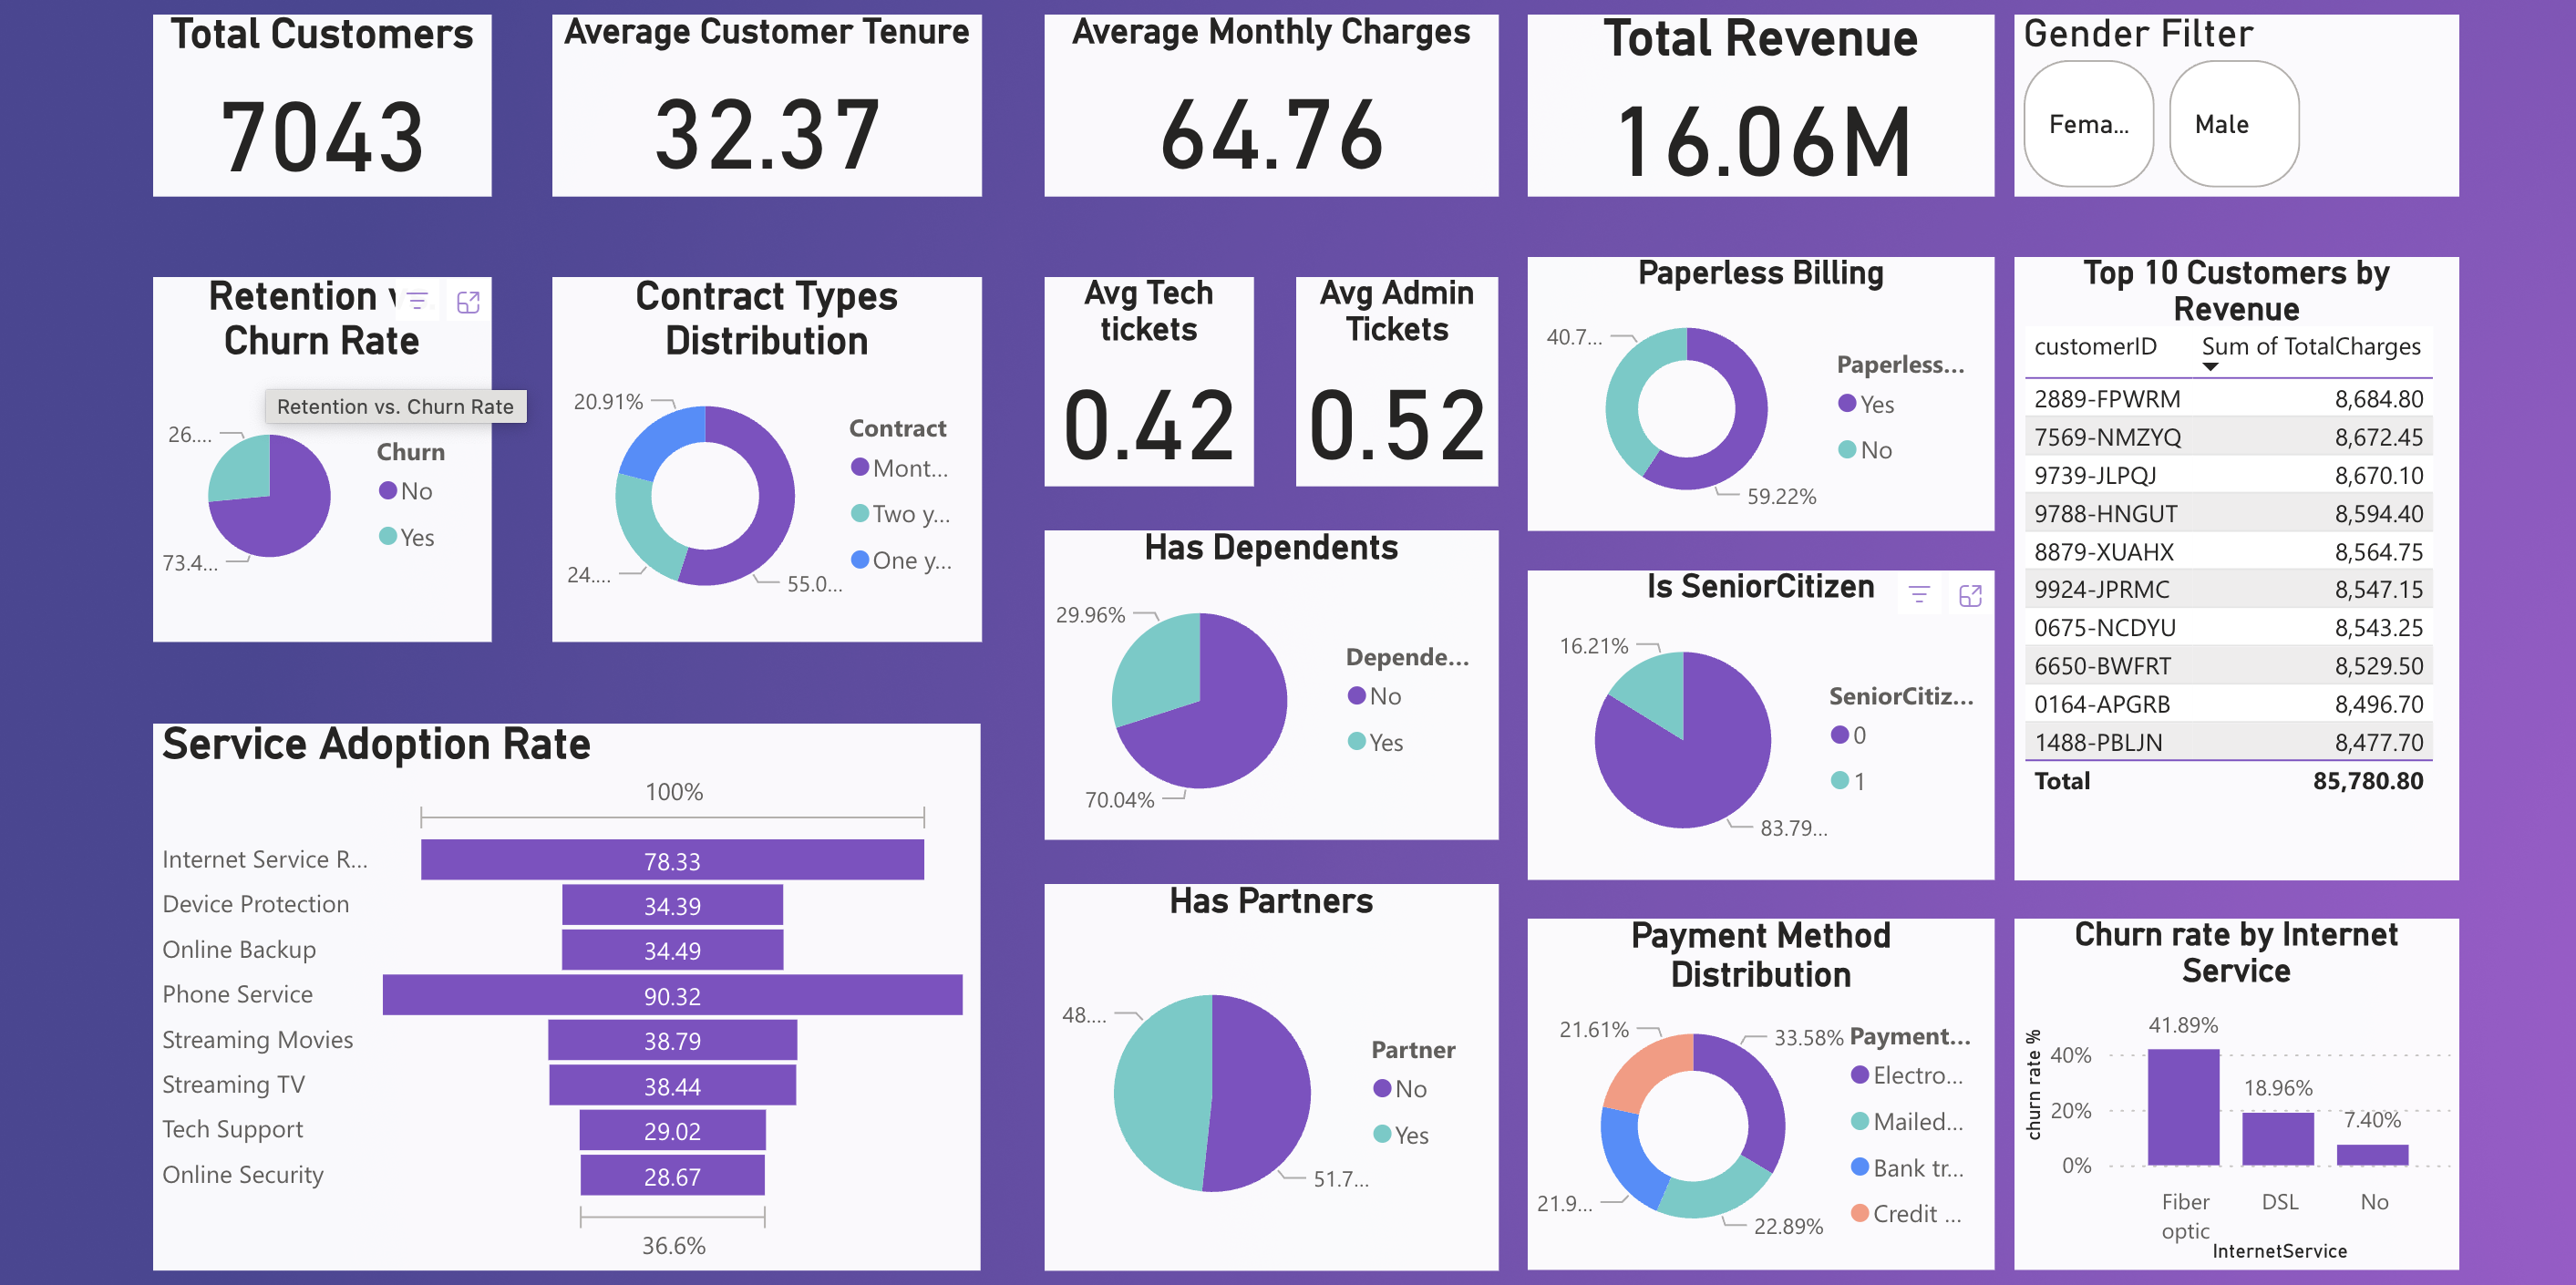

Layout of this report page (visuals, bound fields, positions):
{"tool":"powerbi","page":{"name":"Page 1","canvas":[1280,720],"ordinal":0},"visuals":[{"type":"card","title":"Total Customers","fields":{"Values":["Count(01 Churn-Dataset.customerID)"]},"box":[13.4,14.7,185.8,100.2],"z":0},{"type":"pieChart","title":"Retention vs. Churn Rate","fields":{"Y":["CountNonNull(01 Churn-Dataset.Churn)"],"Category":["01 Churn-Dataset.Churn"]},"box":[13.4,158.9,185.8,200.5],"z":1000},{"type":"advancedSlicerVisual","title":"Gender Filter","fields":{"Values":["01 Churn-Dataset.gender"]},"box":[1001.2,14.7,265.3,85.6],"z":2000},{"type":"funnel","title":"Service Adoption Rate ","fields":{"Y":["01 Churn-Dataset.internet_svs_users","01 Churn-Dataset.DeviceProtection_svs_users","01 Churn-Dataset.OnlineBackup_svs_users","01 Churn-Dataset.phone_svs_users","01 Churn-Dataset.StreamingMovies_svs_users","01 Churn-Dataset.StreamingTV_svs_users","01 Churn-Dataset.TechSupport_svs_users","01 Churn-Dataset.OnlineSecurity_svs_users"]},"box":[13.4,404.6,454.7,300.7],"z":3000},{"type":"card","title":"Average Customer Tenure","fields":{"Values":["Avg(01 Churn-Dataset.tenure)"]},"box":[231.9,15.1,236,100.2],"z":4000},{"type":"donutChart","title":"Contract Types Distribution","fields":{"Category":["01 Churn-Dataset.Contract"],"Y":["CountNonNull(01 Churn-Dataset.Contract)"]},"box":[232.3,158.9,235.9,200.5],"z":5000},{"type":"card","title":"Average Monthly Charges","fields":{"Values":["Avg(01 Churn-Dataset.MonthlyCharges)"]},"box":[502.4,14.7,249.4,100.2],"z":6000},{"type":"card","title":"Total Revenue","fields":{"Values":["Sum(01 Churn-Dataset.TotalCharges)"]},"box":[767.7,14.7,196.8,100.2],"z":7000},{"type":"card","title":"Avg Admin Tickets","fields":{"Values":["Avg(01 Churn-Dataset.numAdminTickets)"]},"box":[640.5,158.9,111.2,114.9],"z":8000},{"type":"card","title":"Avg Tech tickets","fields":{"Values":["Avg(01 Churn-Dataset.numTechTickets)"]},"box":[502.4,158.9,114.9,114.9],"z":9000},{"type":"pieChart","title":"Has Dependents","fields":{"Category":["01 Churn-Dataset.Dependents"],"Y":["CountNonNull(01 Churn-Dataset.Dependents)"]},"box":[502.4,298.3,249.4,169.9],"z":10000},{"type":"pieChart","title":"Has Partners","fields":{"Category":["01 Churn-Dataset.Partner"],"Y":["CountNonNull(01 Churn-Dataset.Partner)"]},"box":[502.4,492.6,249.4,212.7],"z":11000},{"type":"pieChart","title":"Is SeniorCitizen","fields":{"Category":["01 Churn-Dataset.SeniorCitizen"],"Y":["CountNonNull(01 Churn-Dataset.SeniorCitizen)"]},"box":[767.7,320.3,256.7,169.9],"z":12000},{"type":"donutChart","title":"Paperless Billing","fields":{"Category":["01 Churn-Dataset.PaperlessBilling"],"Y":["CountNonNull(01 Churn-Dataset.PaperlessBilling)"]},"box":[767.7,147.9,256.7,150.4],"z":13000},{"type":"tableEx","title":"Top 10 Customers by Revenue","fields":{"Values":["01 Churn-Dataset.customerID","Sum(01 Churn-Dataset.TotalCharges)"]},"box":[1035.4,147.9,244.5,342.3],"z":14000},{"type":"donutChart","title":"Payment Method Distribution","fields":{"Category":["01 Churn-Dataset.PaymentMethod"],"Y":["CountNonNull(01 Churn-Dataset.PaymentMethod)"]},"box":[767.7,512.2,512.2,193.1],"z":15000}]}

Visuals, with their boxes in screenshot pixels (x1, y1, x2, y2):
"Total Customers" card: region(145, 6, 485, 190)
"Retention vs. Churn Rate" pieChart: region(145, 271, 485, 637)
"Gender Filter" advancedSlicerVisual: region(1952, 6, 2437, 163)
"Service Adoption Rate " funnel: region(145, 720, 977, 1270)
"Average Customer Tenure" card: region(545, 7, 976, 190)
"Contract Types Distribution" donutChart: region(546, 271, 977, 637)
"Average Monthly Charges" card: region(1040, 6, 1496, 190)
"Total Revenue" card: region(1525, 6, 1885, 190)
"Avg Admin Tickets" card: region(1293, 271, 1496, 480)
"Avg Tech tickets" card: region(1040, 271, 1250, 480)
"Has Dependents" pieChart: region(1040, 525, 1496, 836)
"Has Partners" pieChart: region(1040, 880, 1496, 1270)
"Is SeniorCitizen" pieChart: region(1525, 566, 1994, 877)
"Paperless Billing" donutChart: region(1525, 251, 1994, 525)
"Top 10 Customers by Revenue" tableEx: region(2014, 251, 2462, 877)
"Payment Method Distribution" donutChart: region(1525, 917, 2462, 1270)
